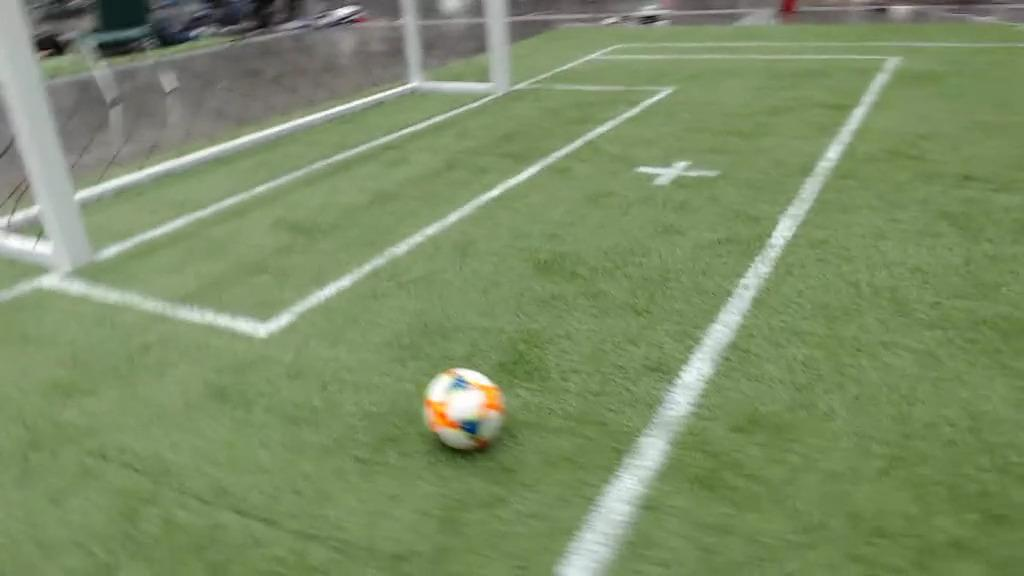ball: (424, 365, 503, 450)
